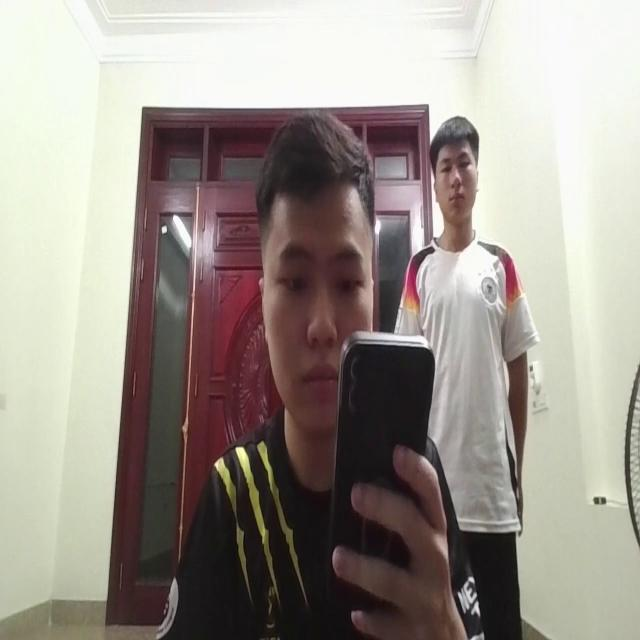extra_person: (405, 114, 526, 545)
phone: (336, 320, 431, 606)
student: (201, 110, 428, 640)
